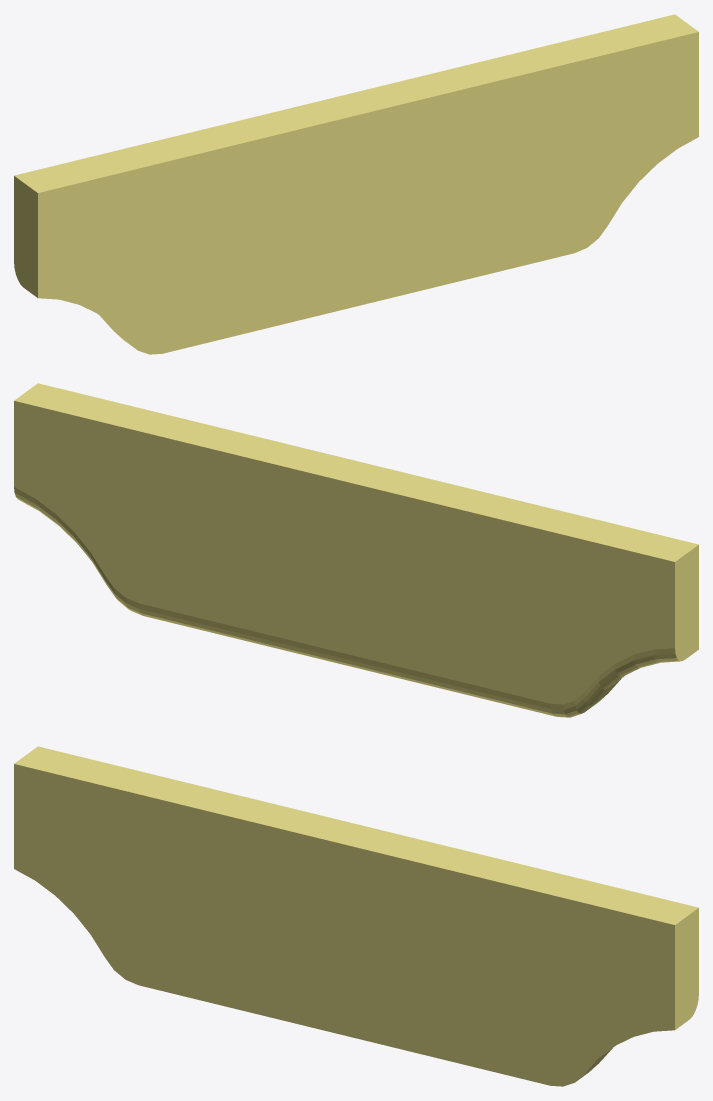
File: original-9.obj
The picture shows the model from 3 angles, top to bottom: view 1: azimuth 30°, elevation 25°; view 2: azimuth 150°, elevation 25°; view 3: azimuth 330°, elevation 25°; orthographic projection.
Visible parts, largest first — view 1: mesh9/mesh9-geometry#mesh9-geometry; view 2: mesh9/mesh9-geometry#mesh9-geometry; view 3: mesh9/mesh9-geometry#mesh9-geometry.
Boxes of the visible parts, x1,y1,x2,y2 form: mesh9/mesh9-geometry#mesh9-geometry: (14, 14, 698, 354); mesh9/mesh9-geometry#mesh9-geometry: (14, 383, 698, 717); mesh9/mesh9-geometry#mesh9-geometry: (14, 746, 698, 1086).
Size of the model in its own units: 0.9462 by 0.2613 by 0.0594.
